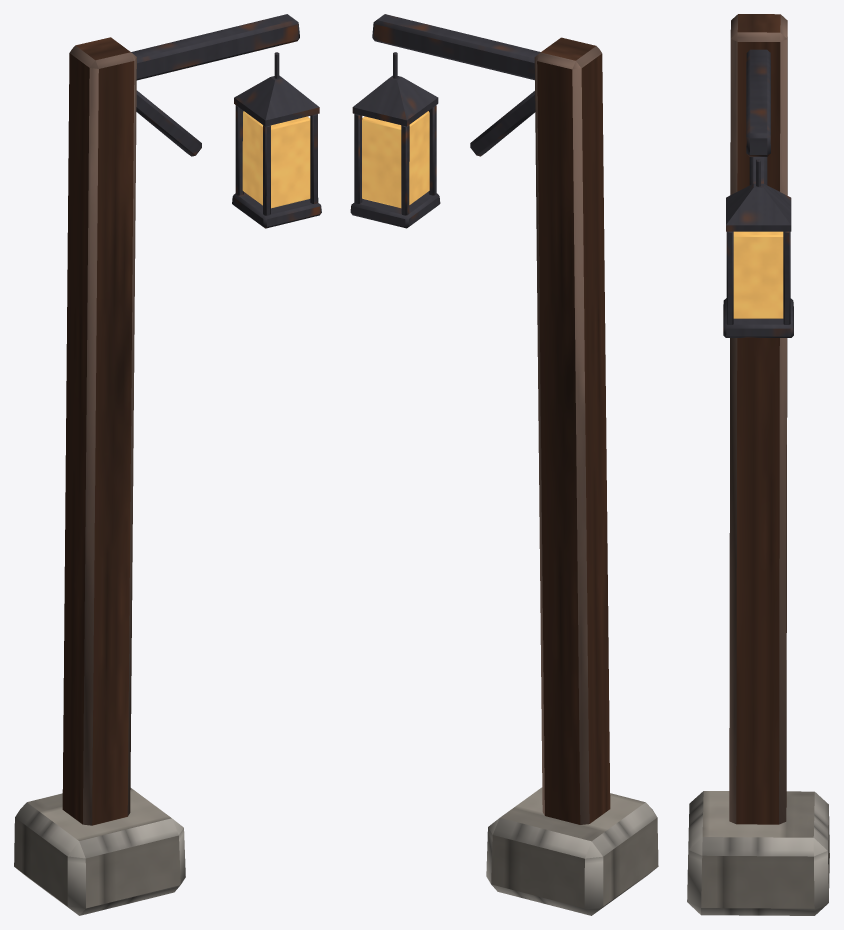
File: SM_Lamp_Post.gltf
3 renders of one model, left to right at view 1: azimuth 30°, elevation 25°; view 2: azimuth 150°, elevation 25°; view 3: azimuth 270°, elevation 25°, orthographic. The views are drawn at different scales.
Parts seen in each view (by area): view 1: SM_Lamp_Post; view 2: SM_Lamp_Post; view 3: SM_Lamp_Post.
Part boxes in pixels (box(x1,y1,x2,y2)): SM_Lamp_Post: box(14, 14, 321, 915); SM_Lamp_Post: box(350, 14, 658, 915); SM_Lamp_Post: box(687, 14, 829, 915).
Size of the model in its own units: 0.8995 by 2.7 by 0.4014.
Materials: 2 (2 with a texture image).
